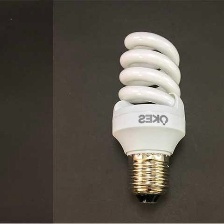light_bulb: (108, 27, 191, 208)
